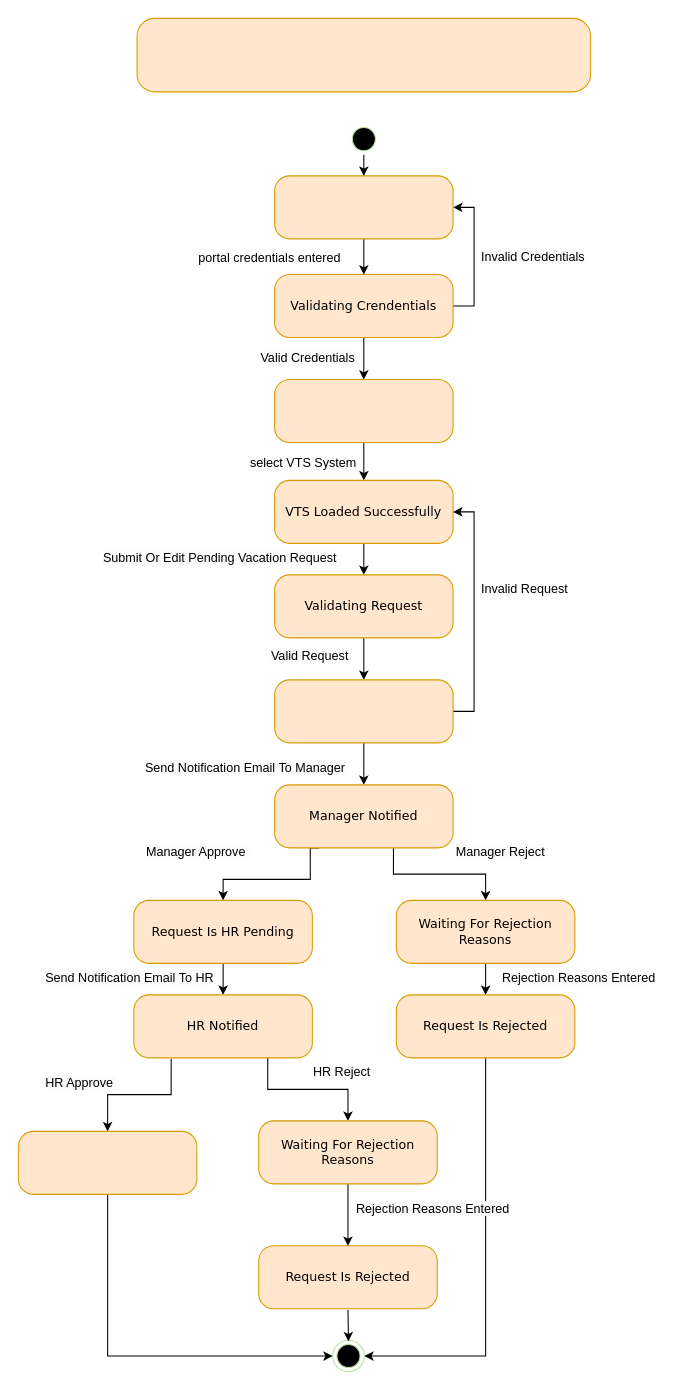
Image size: 674x1390. Some labels were removed from this diagram. The shapes that lost their labels are listed below. From the top down, each one's centre as x and y in pixels, then its label:
the point at 363,54: VTS Request Or Edit Pending Vacation State Machine Diagram
the point at 363,207: Waiting For Credentials
the point at 363,411: Portal Loaded Successfully
the point at 363,711: Request Is Pending
the point at 107,1162: Request Is HR Approved
